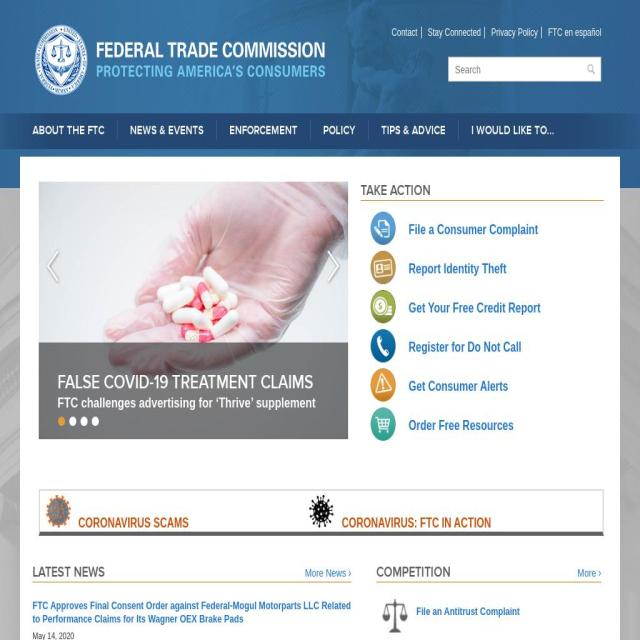button: (39, 182, 348, 440), (58, 363, 330, 394), (368, 290, 541, 325), (368, 212, 538, 246), (368, 329, 522, 364), (368, 368, 509, 404), (368, 408, 514, 442), (368, 251, 507, 286), (376, 599, 520, 624), (0, 0, 640, 4), (341, 514, 491, 531), (78, 514, 189, 531), (470, 120, 554, 140), (129, 120, 204, 140), (32, 120, 104, 140), (228, 120, 298, 140), (380, 120, 446, 140), (322, 120, 356, 140), (376, 638, 536, 640), (58, 416, 66, 427), (69, 416, 77, 427), (80, 416, 88, 427), (92, 416, 100, 427)
field: (454, 61, 584, 77), (585, 62, 597, 78)
heading: (32, 599, 350, 626), (32, 562, 351, 581), (58, 370, 330, 392), (58, 393, 330, 412), (376, 562, 601, 581), (360, 182, 604, 199)
image: (39, 182, 348, 440), (34, 23, 325, 96), (308, 495, 337, 527), (44, 495, 72, 527)
link: (428, 26, 482, 38), (548, 26, 602, 38), (304, 566, 352, 579), (490, 26, 538, 38), (577, 566, 602, 579), (392, 26, 418, 38)
text: (32, 631, 74, 640)
